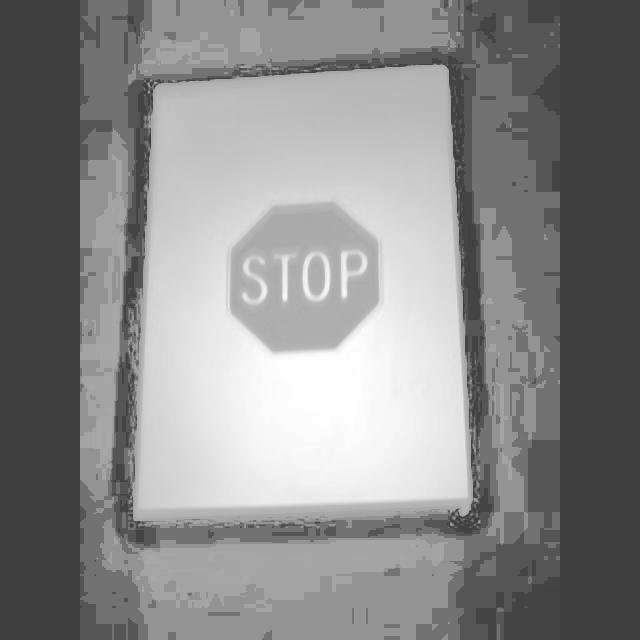STOP: (228, 207, 382, 353)
